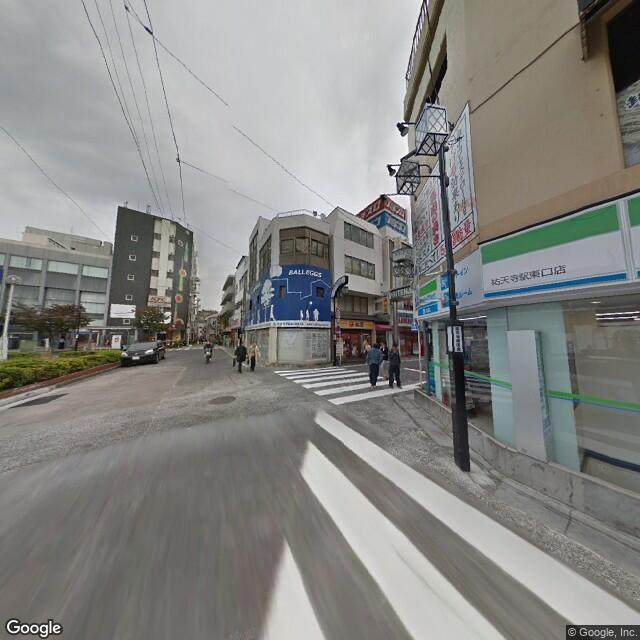family_mart: (481, 193, 638, 302), (416, 276, 440, 317)
